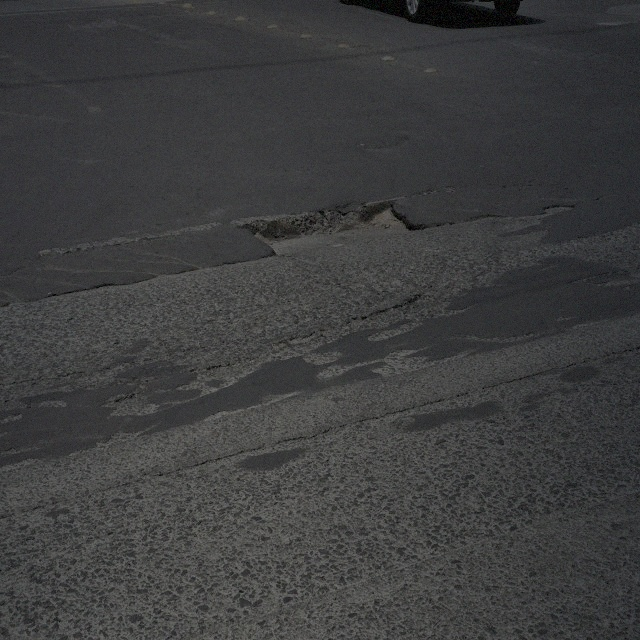pothole: (249, 195, 417, 262), (102, 394, 158, 418), (542, 202, 575, 216)
